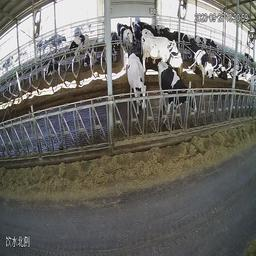cow: (157, 61, 198, 130), (141, 32, 181, 72), (126, 53, 148, 115), (189, 36, 208, 89), (69, 31, 90, 59), (215, 59, 231, 81), (110, 30, 119, 67), (177, 25, 189, 52), (229, 59, 242, 82), (123, 29, 135, 52), (131, 20, 142, 44), (46, 58, 59, 78), (83, 49, 97, 67), (249, 70, 256, 106), (204, 59, 216, 78), (205, 39, 219, 52)
